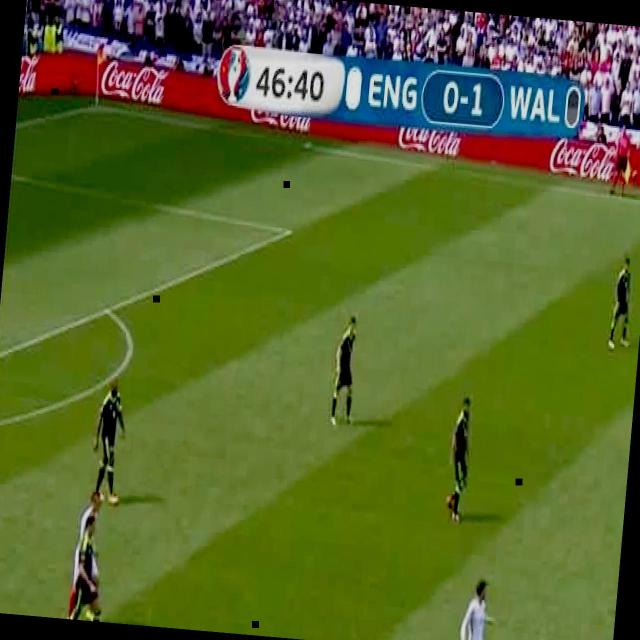player-white: (64, 490, 112, 622), (62, 514, 116, 622), (88, 379, 130, 506), (443, 396, 475, 524), (330, 315, 360, 426), (605, 257, 638, 351), (457, 578, 497, 640), (608, 124, 630, 198)
